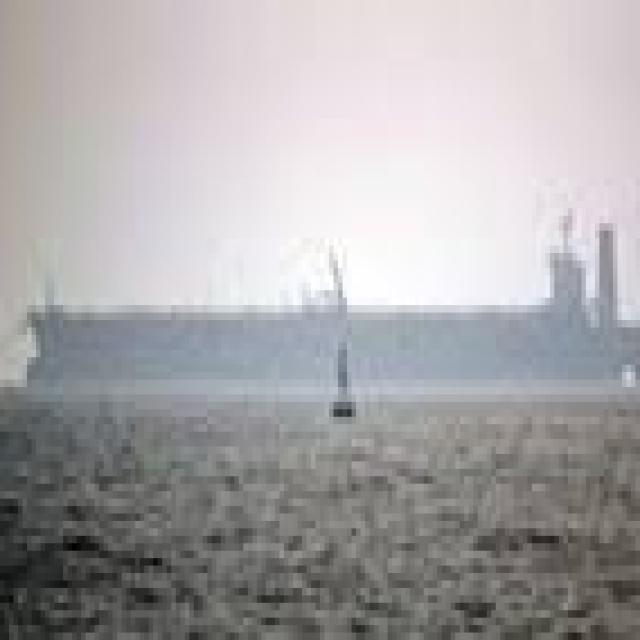cargoship: (22, 215, 640, 379)
